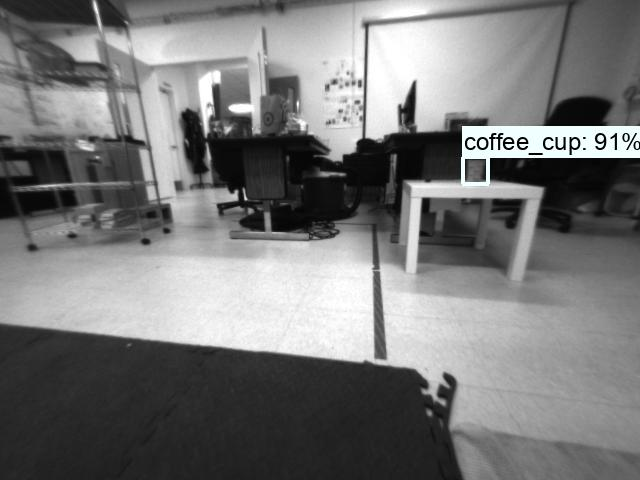coffee_cup: (465, 156, 487, 184)
